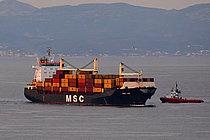Ship: (17, 46, 159, 110)
